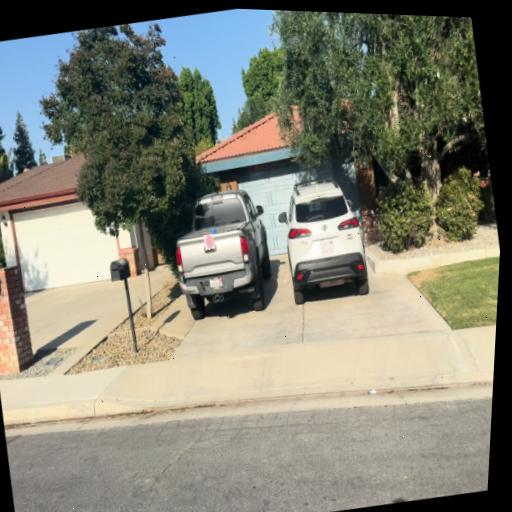bullseye: (204, 233, 214, 249)
